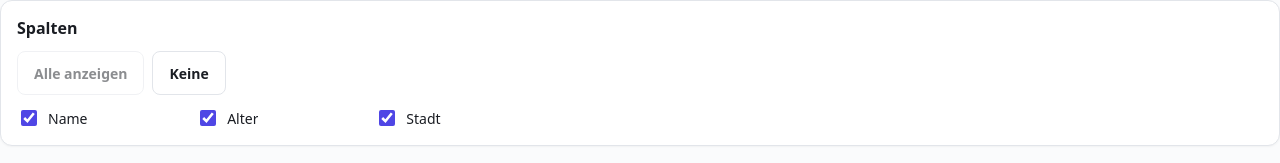
ColumnVisibilityPanel › blendet mit "Alle anzeigen" alle Spalten wieder ein
Click the button "Keine". click: (189, 73)
box: [152, 51, 226, 95]
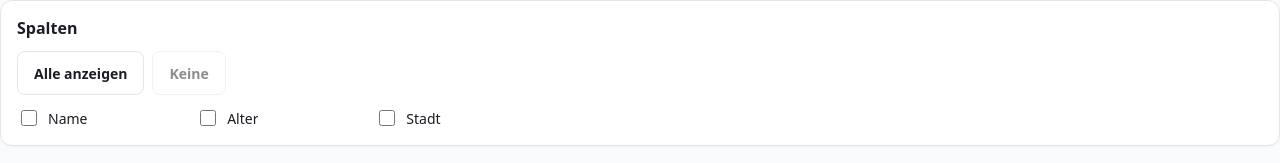
Click the button "Alle anzeigen". click: (81, 73)
box: [17, 51, 144, 95]
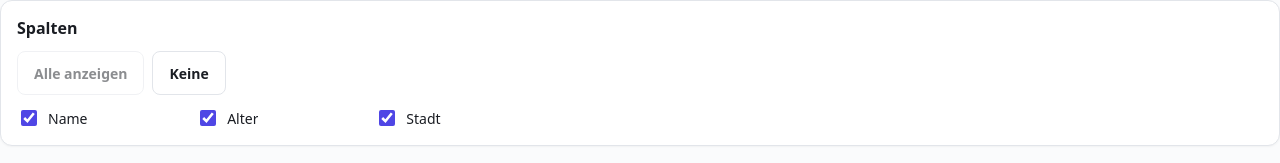
Expected: the checkbox labelled "Name" is checked, [21, 110, 37, 126]
Expected: the checkbox labelled "Alter" is checked, [200, 110, 216, 126]
Expected: the checkbox labelled "Stadt" is checked, [379, 110, 395, 126]
